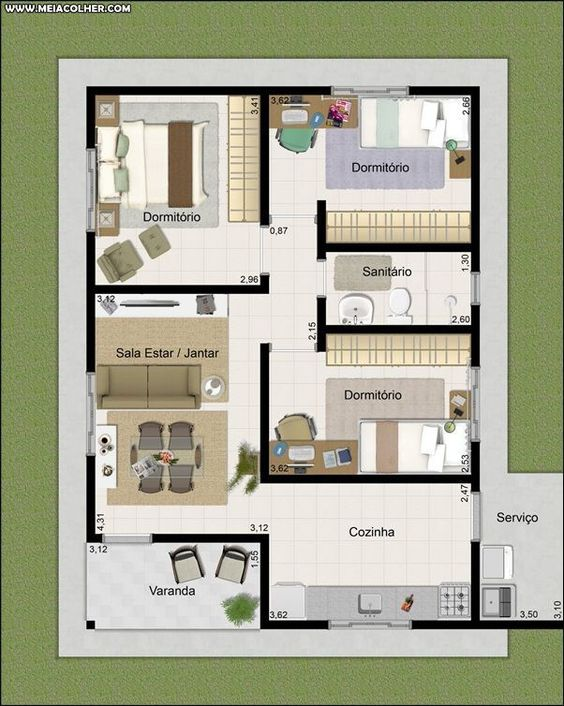room: (86, 85, 268, 293), (260, 324, 479, 482), (260, 474, 479, 628), (315, 85, 479, 252), (318, 242, 480, 332)
